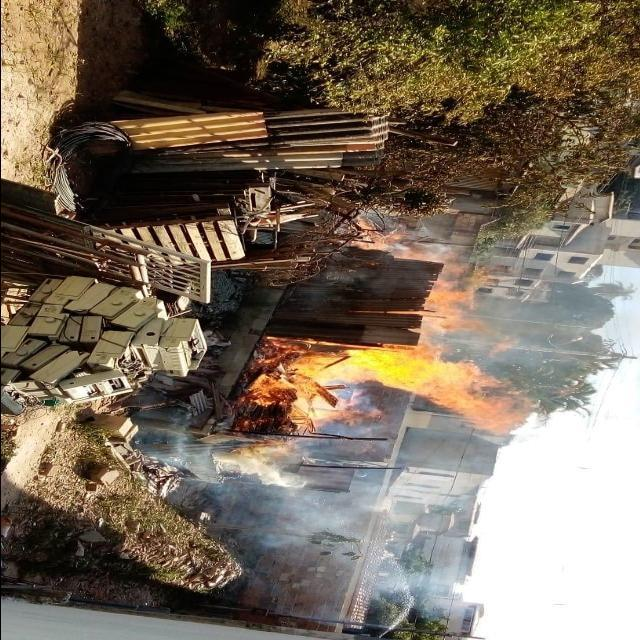Fire: (265, 340, 538, 433), (432, 268, 524, 338), (358, 222, 461, 262)
